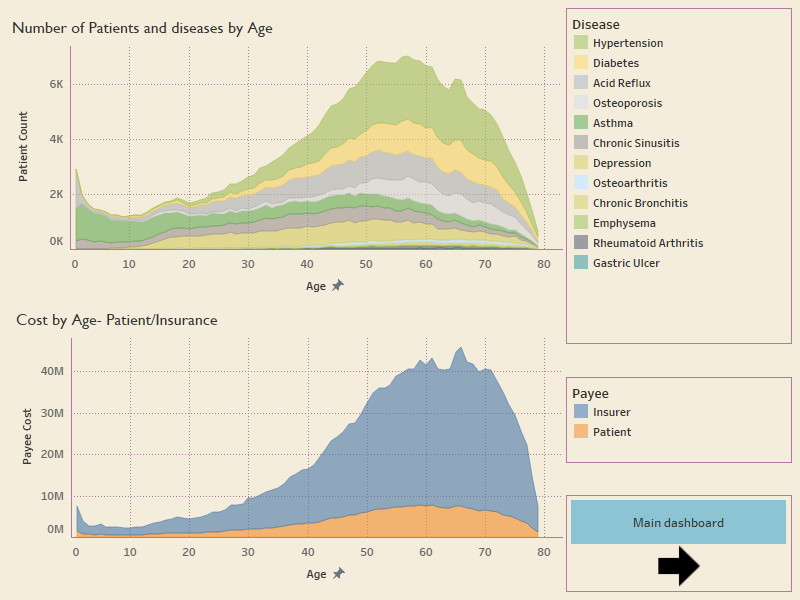

This screenshot's page, from the dashboard's own definition file:
{"tool":"tableau","page":{"name":"2.Disease Costs Dashboard (2)","canvas":[800,600],"ordinal":1},"visuals":[{"type":"worksheet","title":"Number of Patients by Age Range","mark":"Area","rows":["Patient Count"],"cols":["Age"],"box":[8,8,558,292]},{"type":"legend","title":"Number of Patients by Age Range","param":"[federated.05t4d1l03nmawa19un14q08my4r2].[none:Disease:nk]","box":[566,8,226,336]},{"type":"worksheet","title":"Cost by Age (2)","mark":"Area","rows":["Payee Cost"],"cols":["Age"],"box":[8,300,558,292]},{"type":"blank","box":[566,344,226,33]},{"type":"legend","title":"Cost by Age (2)","param":"[federated.05t4d1l03nmawa19un14q08my4r2].[none:Payee:nk]","box":[566,377,226,86]},{"type":"blank","box":[566,463,226,32]},{"type":"worksheet","title":"Return Button","mark":"Shape","cols":["Return"],"box":[566,495,226,97]}]}

Visuals, with their boxes in screenshot pixels (x1, y1, x2, y2), scaled from the page's 800x600 canvas onto the 800x600 screenshot:
"Number of Patients by Age Range" worksheet (Area marks): rect(8, 8, 566, 300)
"Number of Patients by Age Range" legend: rect(566, 8, 792, 344)
"Cost by Age (2)" worksheet (Area marks): rect(8, 300, 566, 592)
blank: rect(566, 344, 792, 377)
"Cost by Age (2)" legend: rect(566, 377, 792, 463)
blank: rect(566, 463, 792, 495)
"Return Button" worksheet (Shape marks): rect(566, 495, 792, 592)
